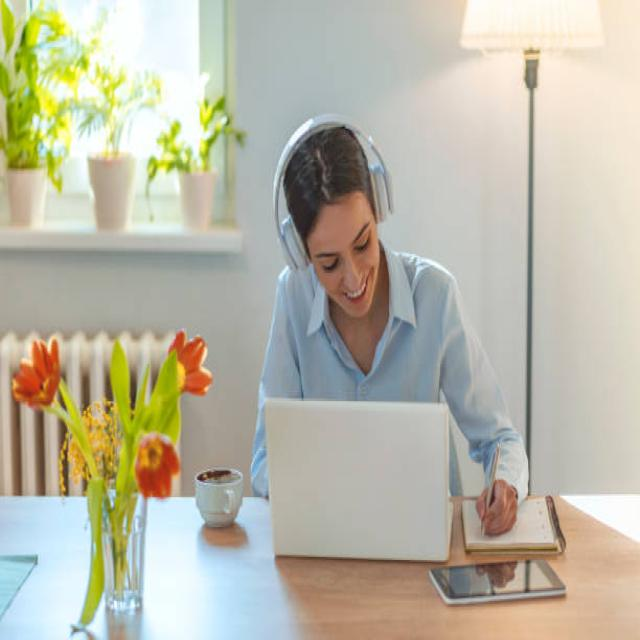Headphone: (272, 112, 396, 275)
